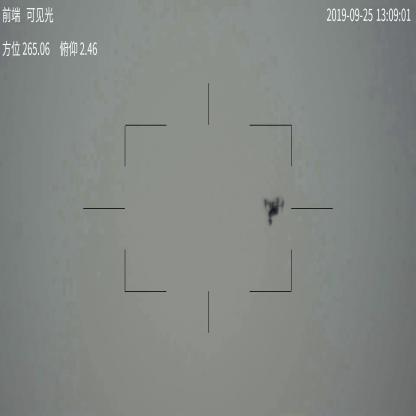uav: (263, 195, 286, 225)
